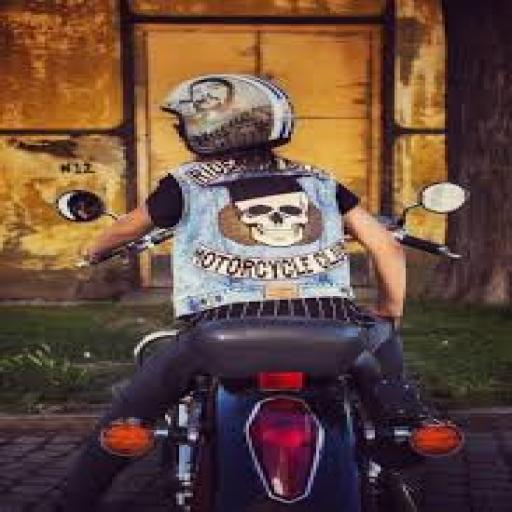helmet: (156, 70, 294, 154)
